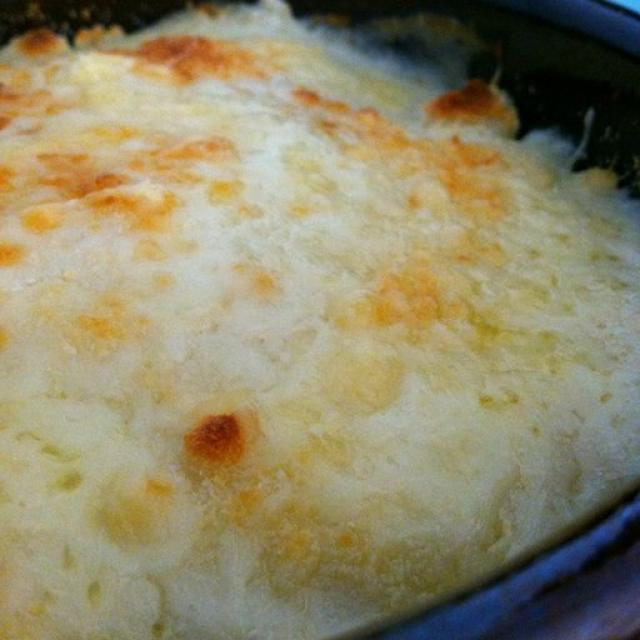Lasagna: (19, 17, 598, 562)
